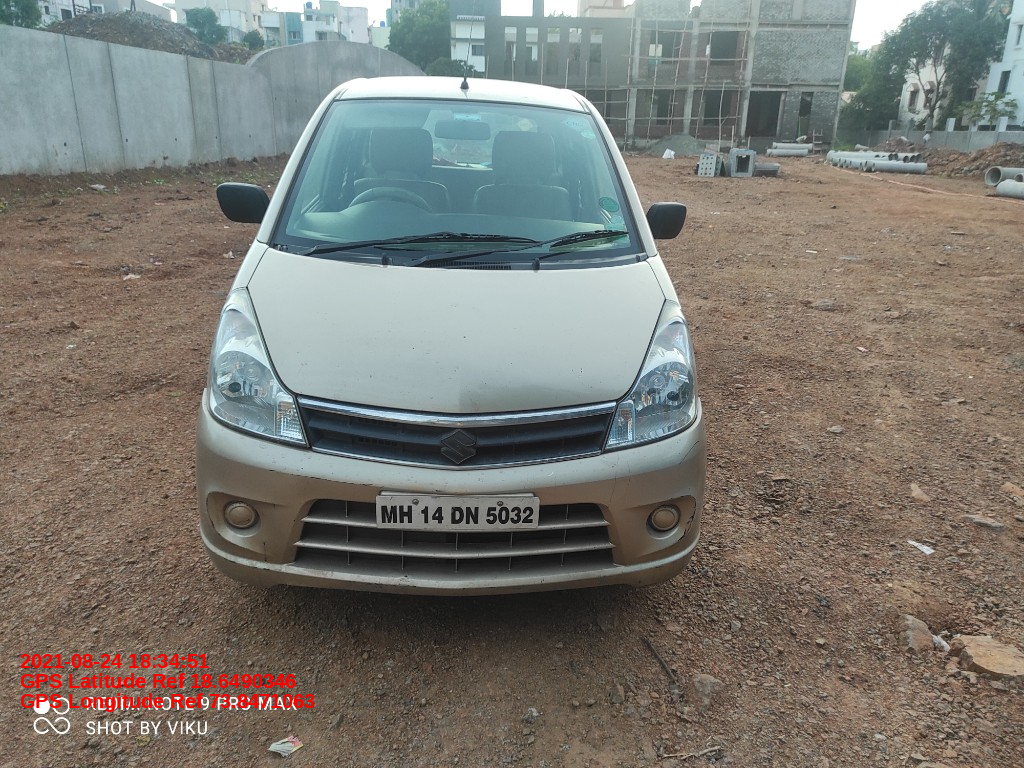Scratched: (609, 454, 643, 512), (301, 473, 384, 491), (672, 432, 703, 472), (203, 494, 221, 541), (393, 571, 423, 593), (684, 504, 697, 543), (258, 537, 273, 561), (220, 553, 242, 567), (249, 564, 279, 574), (428, 486, 448, 497), (534, 576, 552, 588), (263, 465, 278, 477)
